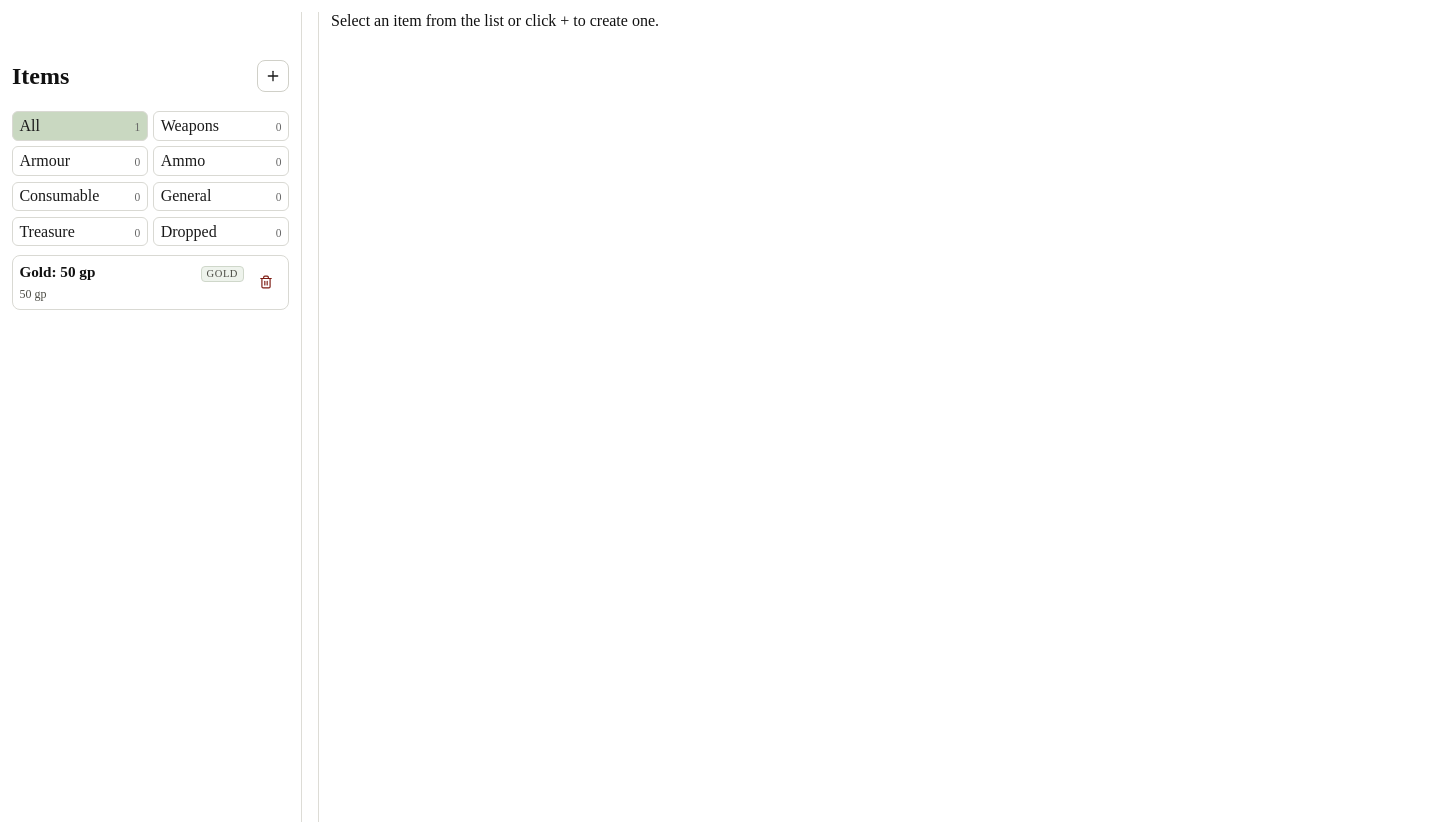
Scenario: Items tab character grants › reports a missing character without making any transaction writes
Click the button "Gold: 50 gp gold 50 gp" at (57, 271), box [19, 262, 244, 302]
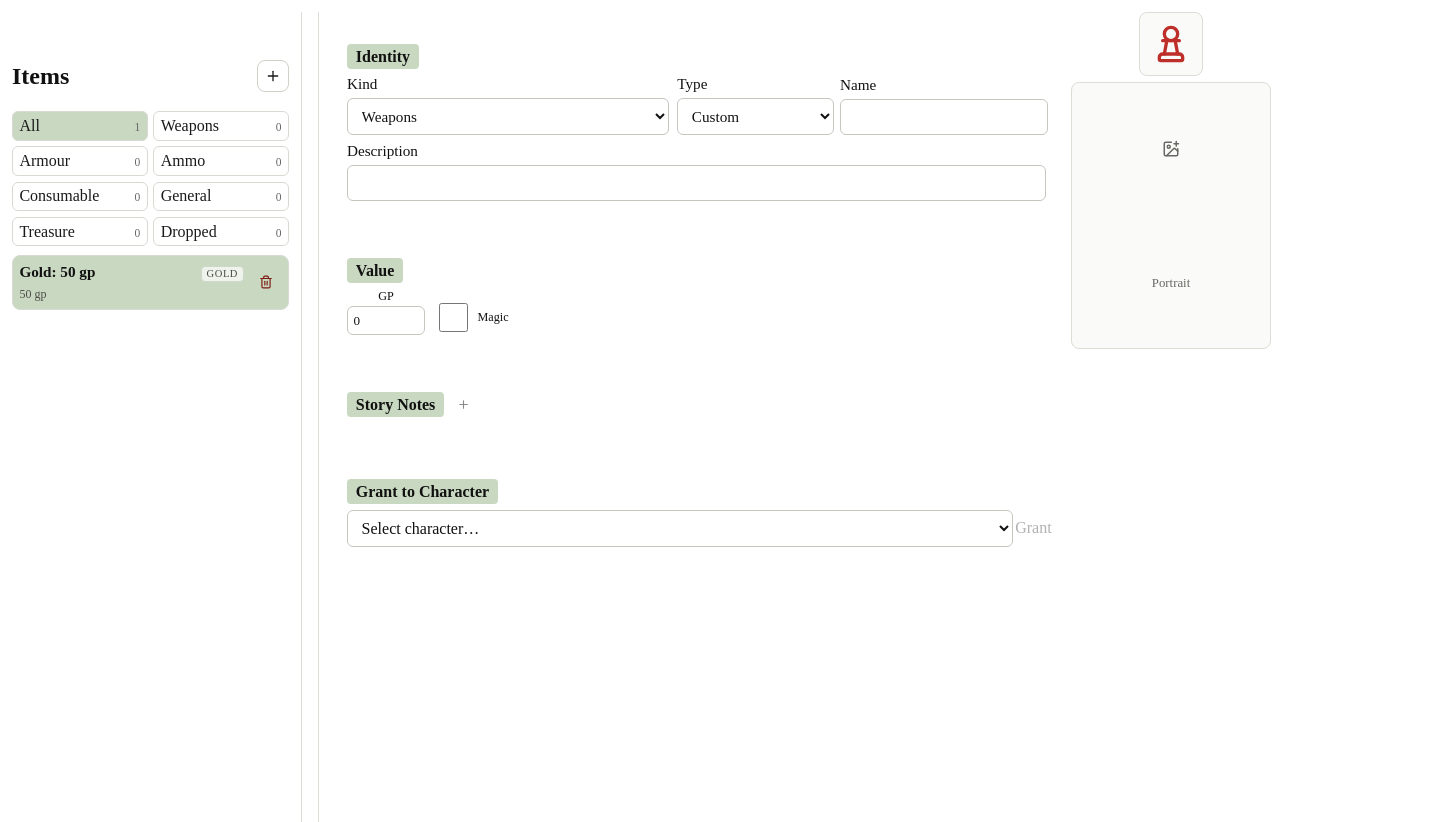
Select "Ada (Fighter 1)" in the 3rd dropdown at (680, 528), box [347, 510, 1013, 547]
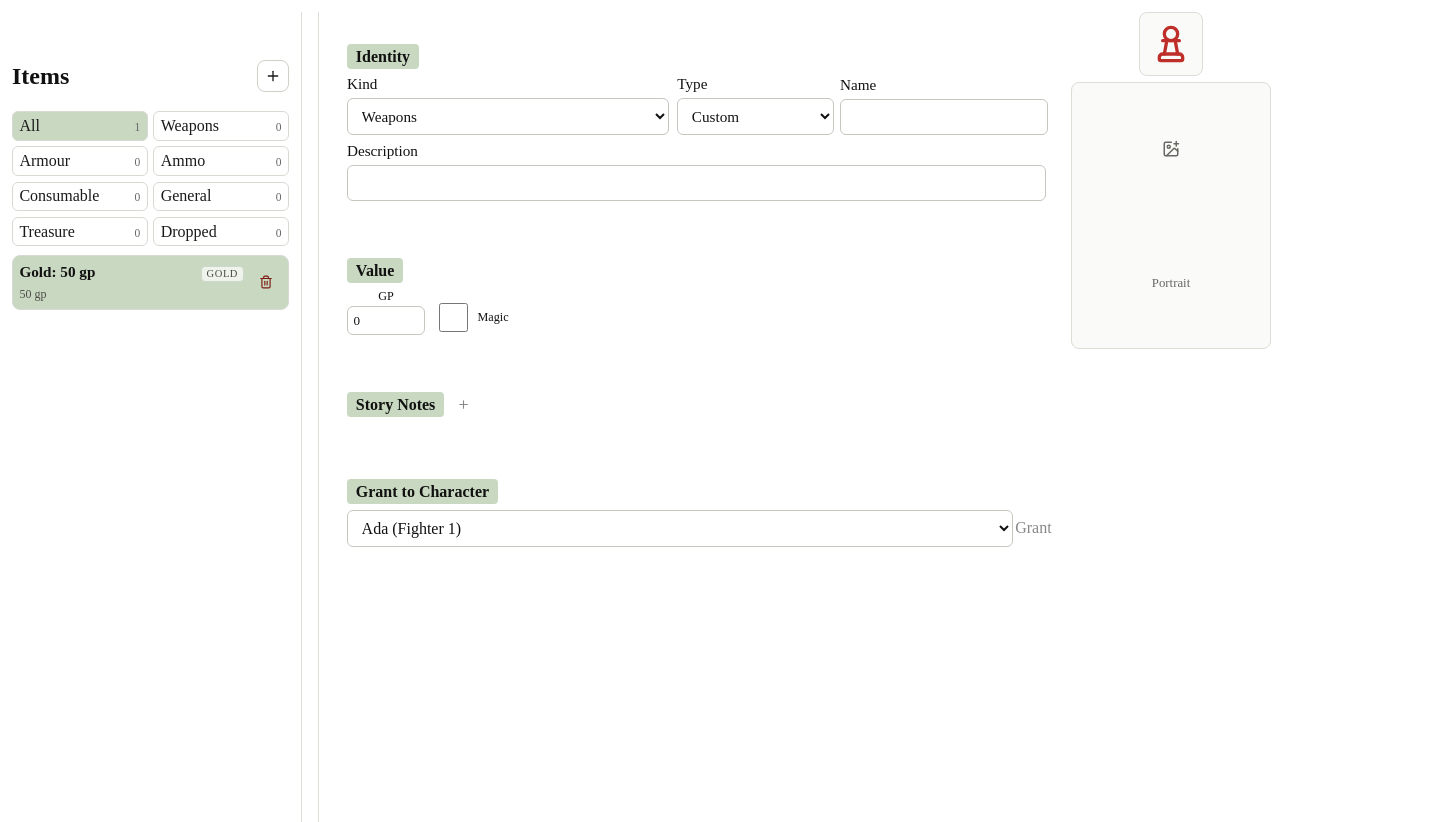
Click the button with aria-label "Grant item to selected character" at (1033, 528), box [1021, 515, 1046, 541]
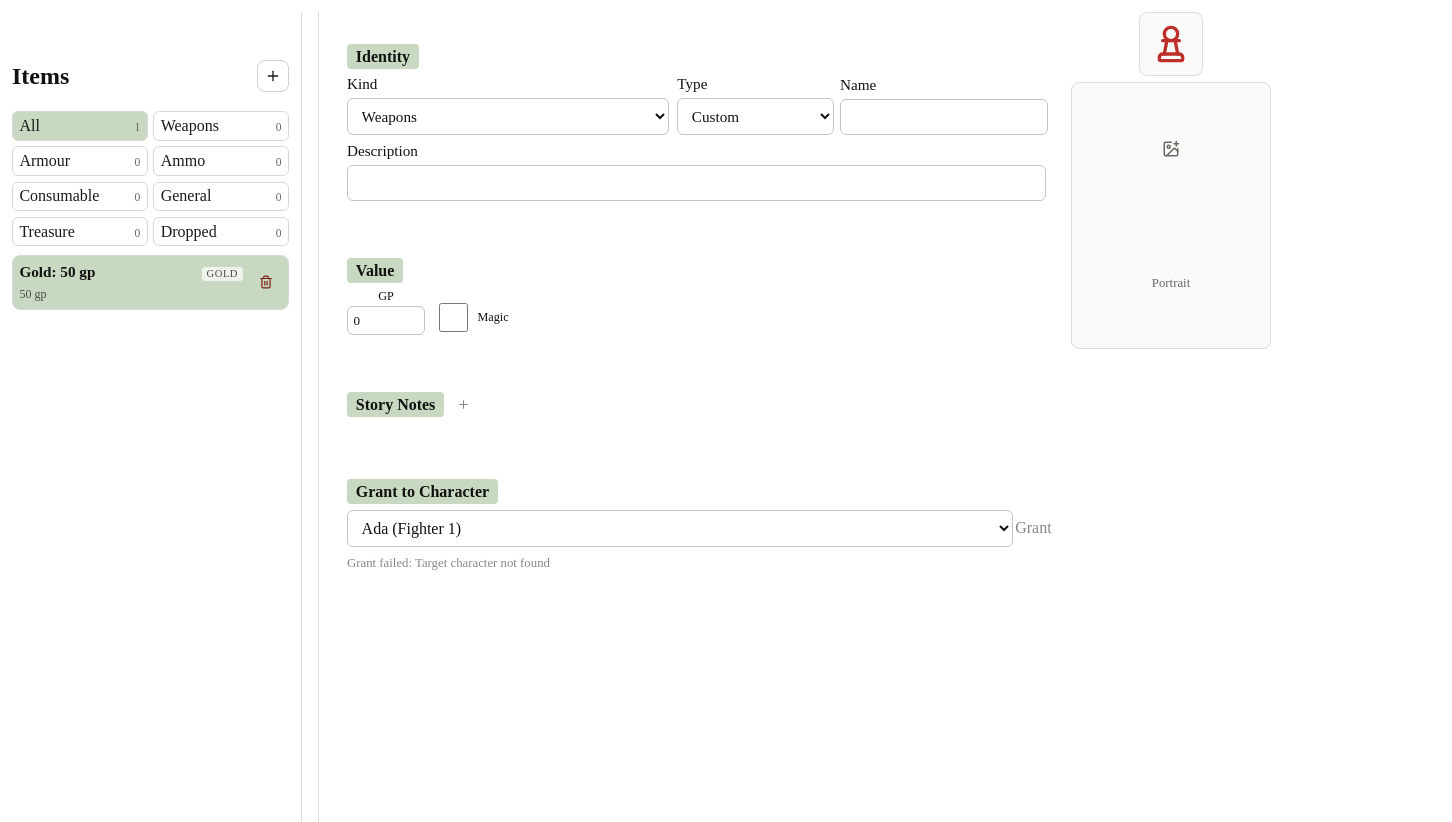
Check: the button with aria-label "Grant item to selected character" is enabled, box [1021, 515, 1046, 541]
Check: the text "Grant failed: Target character not found" is shown, box [347, 556, 550, 570]
